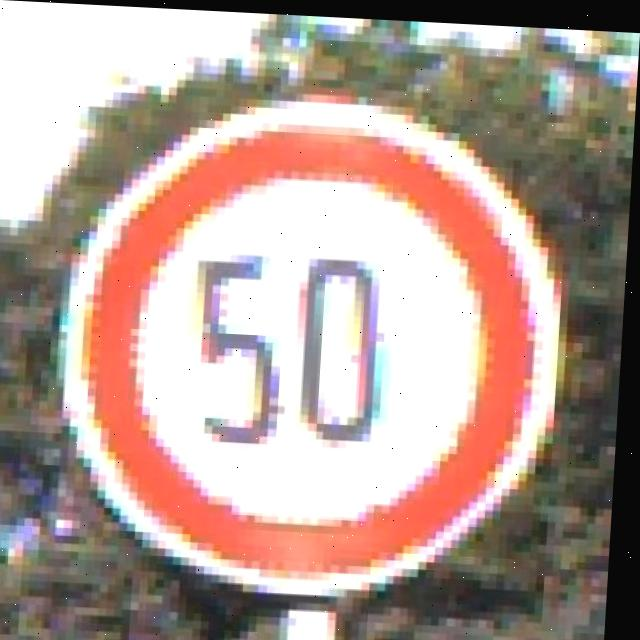Speed limit 50: (59, 84, 581, 600)
